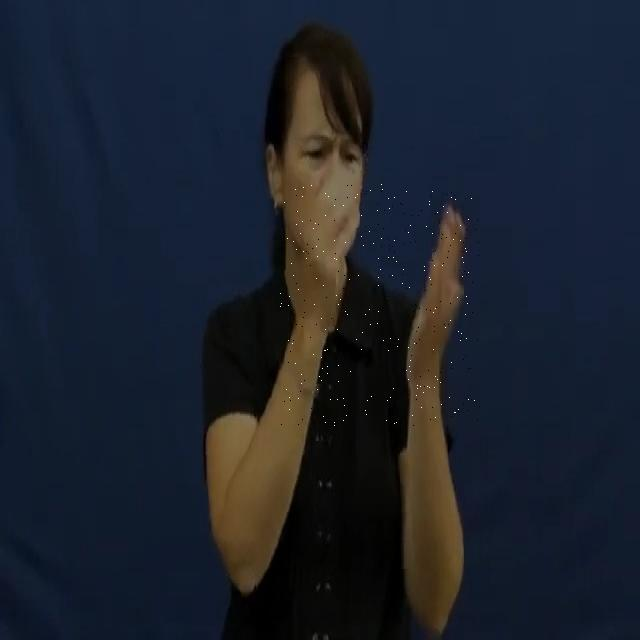menu: (280, 184, 480, 426)
